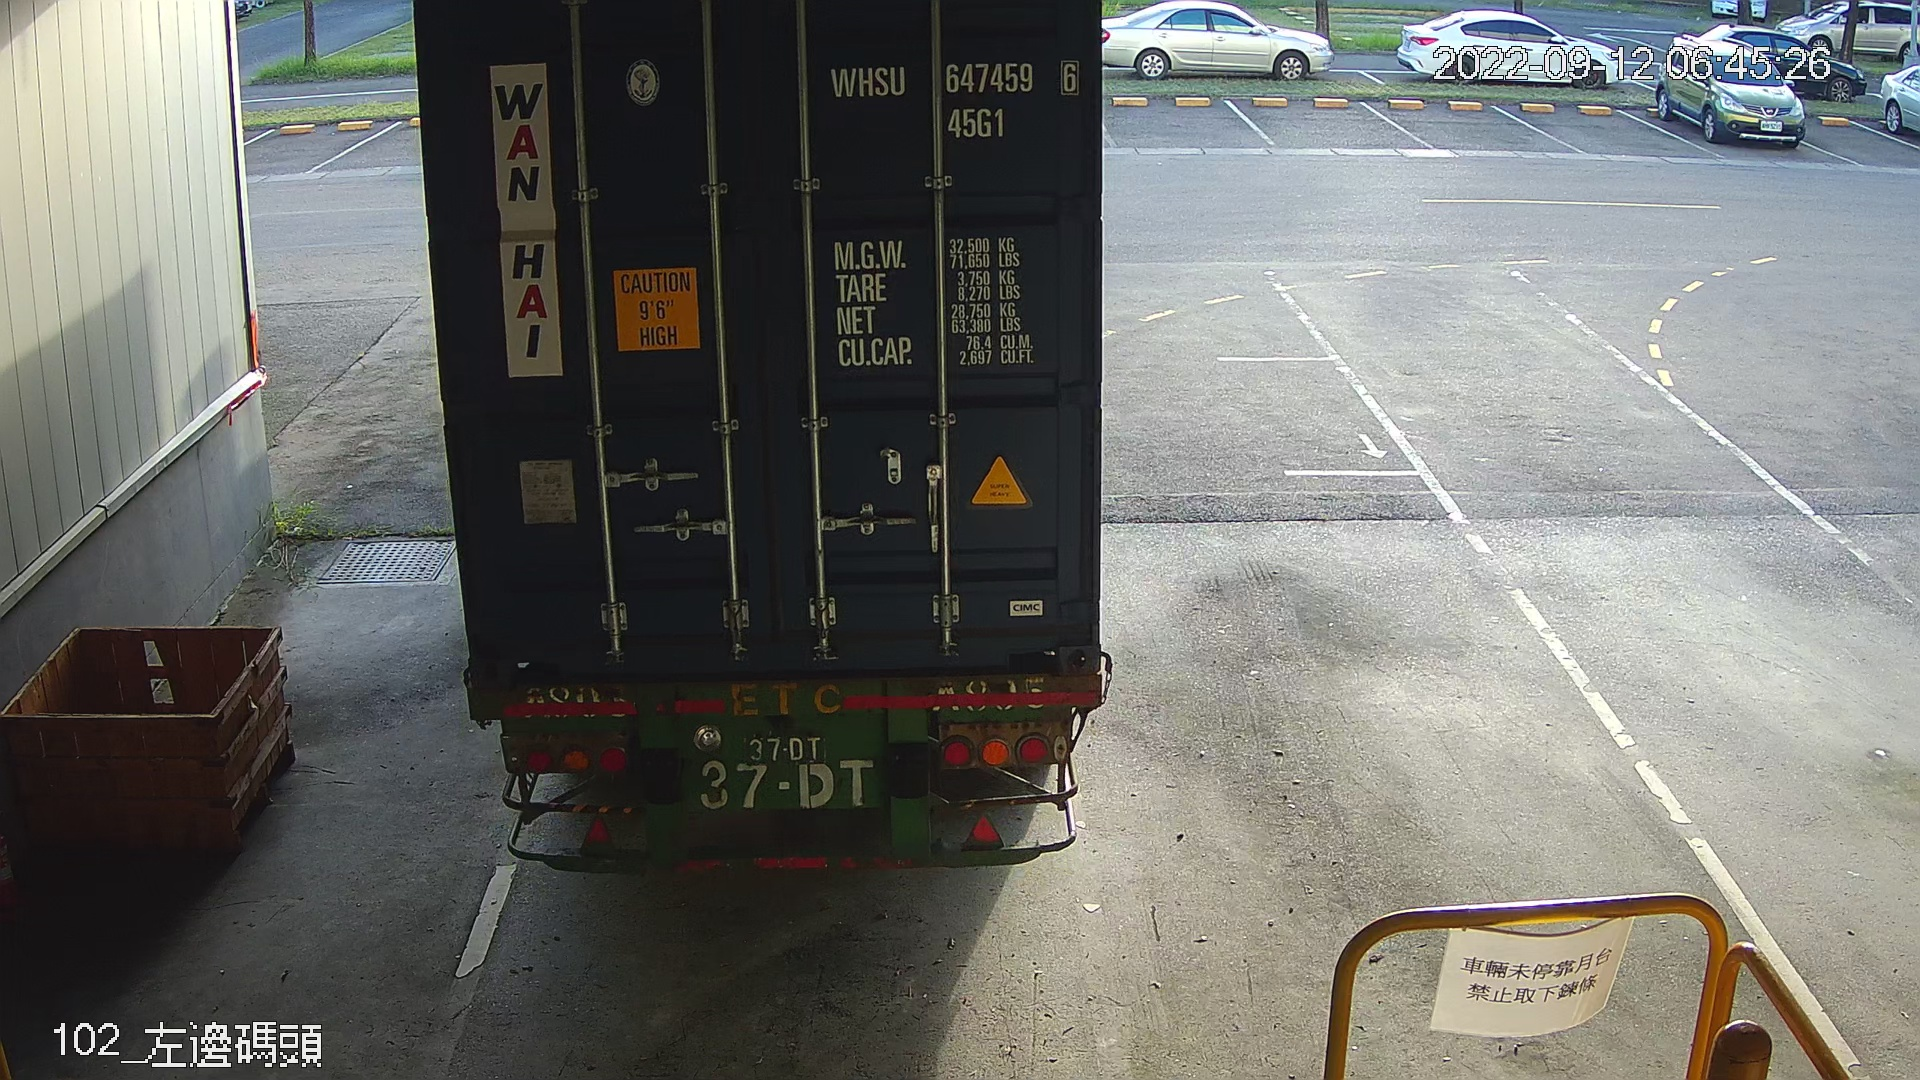container: (820, 51, 1091, 146)
